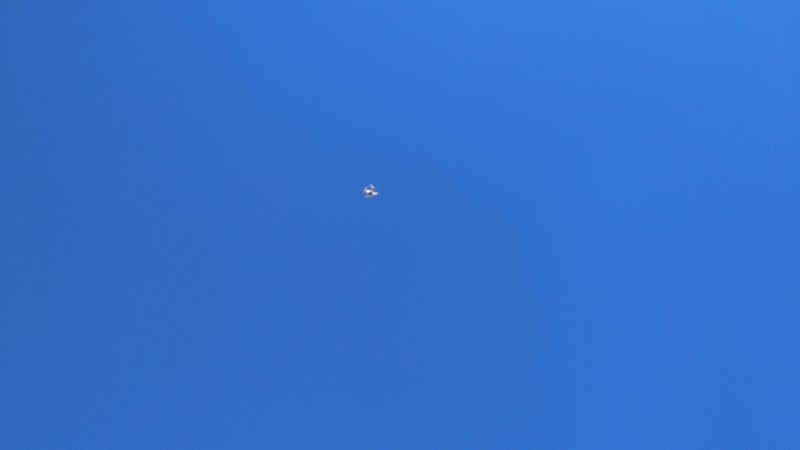drone: (361, 183, 378, 199)
